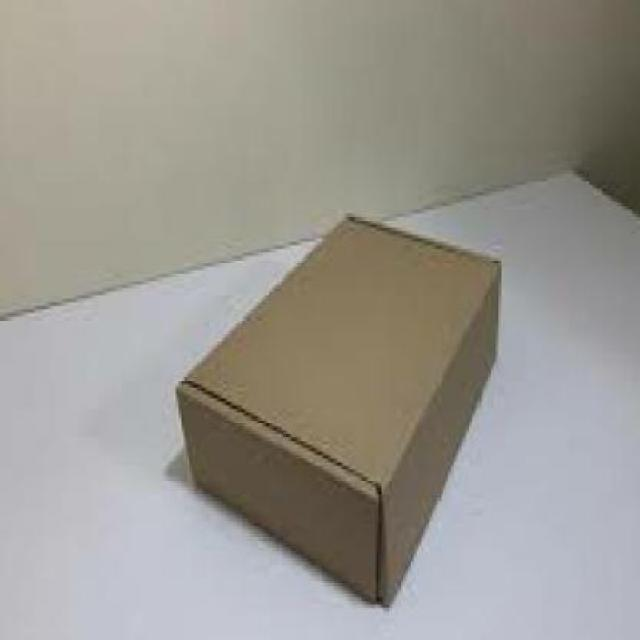-: (177, 213, 509, 601)
